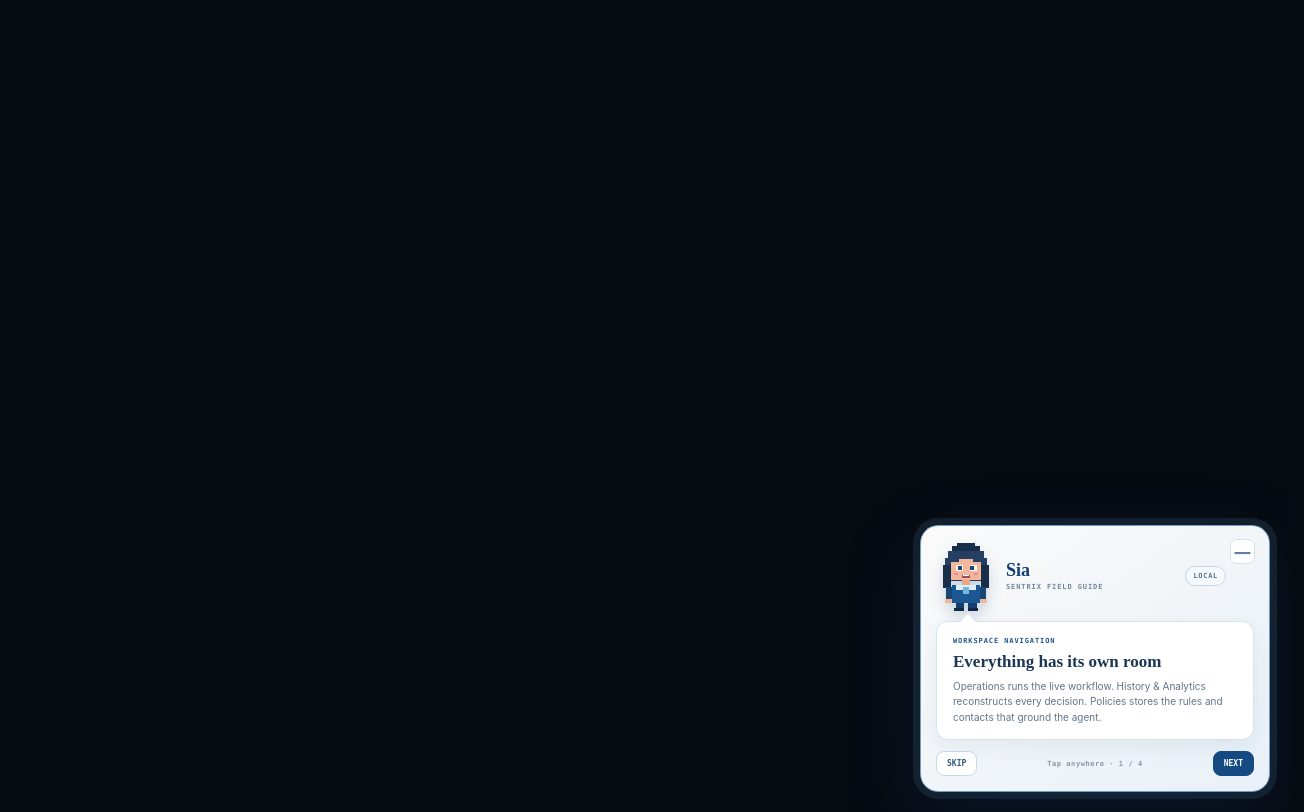
Test case: SentrixGuide › opens with the first-visit workspace tour and advances through it
This screenshot has width=1304, height=812.
Check: the heading "Everything has its own room" is shown, box [953,652,1161,671]
Click the button named "Continue workspace tour": (652,412) [12,12,1292,811]
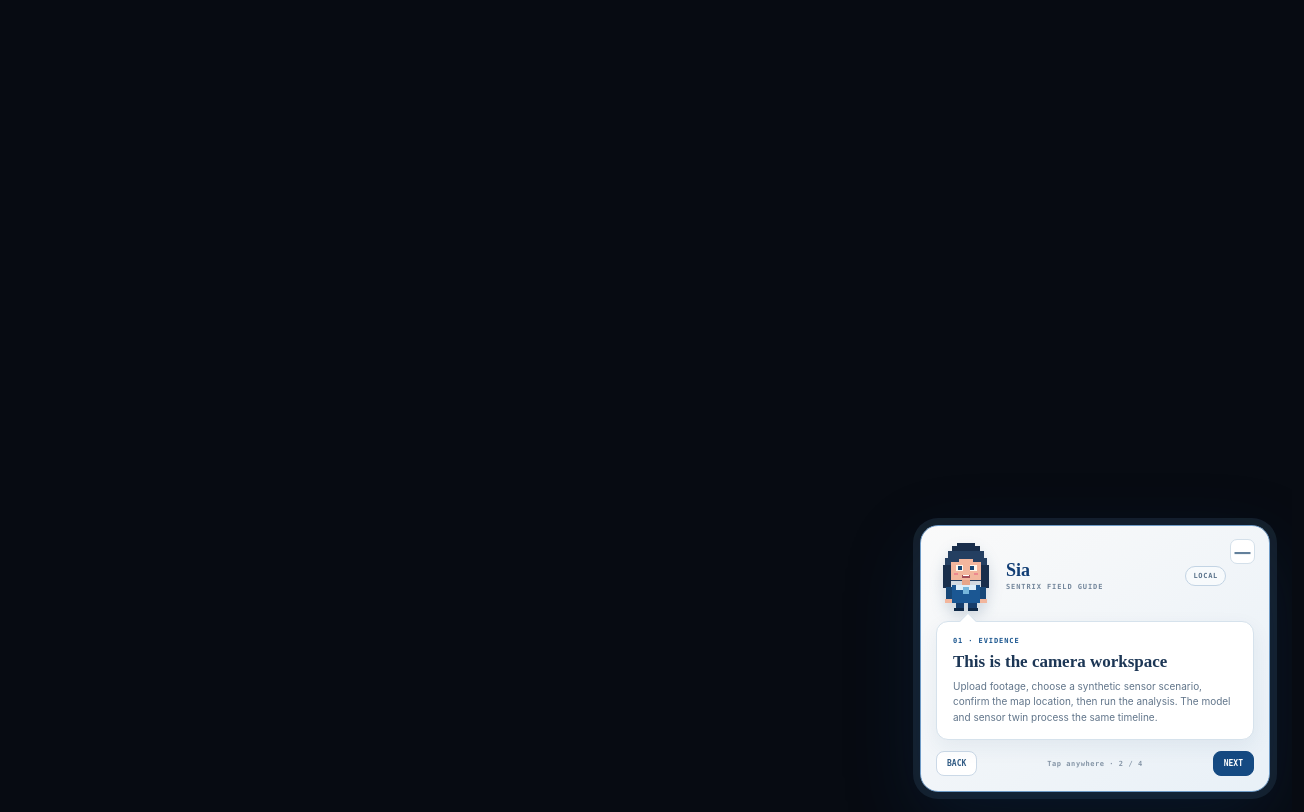
Check: the heading "This is the camera workspace" is shown, box [953,652,1167,671]
